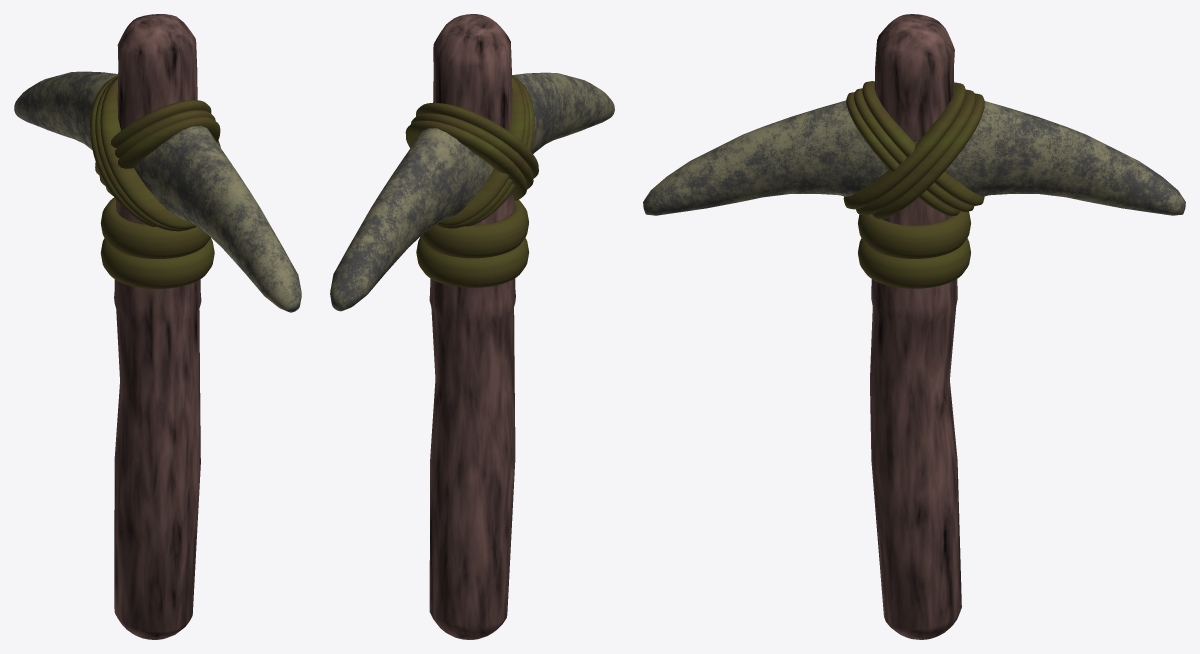
The model's file is StonePickaxe.fbx.
The picture shows the model from 3 angles, left to right: view 1: azimuth 30°, elevation 25°; view 2: azimuth 150°, elevation 25°; view 3: azimuth 270°, elevation 25°; orthographic projection.
Parts seen in each view (by area): view 1: pickaxe handle, pickaxe blade, string; view 2: pickaxe handle, pickaxe blade, string; view 3: pickaxe handle, pickaxe blade, string.
Boxes of the visible parts, x1,y1,x2,y2 form: pickaxe handle: [114, 14, 201, 639]; pickaxe blade: [14, 71, 301, 312]; string: [90, 75, 220, 288]; pickaxe handle: [429, 14, 515, 639]; pickaxe blade: [330, 72, 614, 311]; string: [405, 75, 538, 287]; pickaxe handle: [870, 14, 961, 639]; pickaxe blade: [643, 100, 1185, 215]; string: [843, 81, 984, 288].
Bounding box in the file's own units: 14.78 × 80.6 × 64.35.
3 materials, 3 textured.
